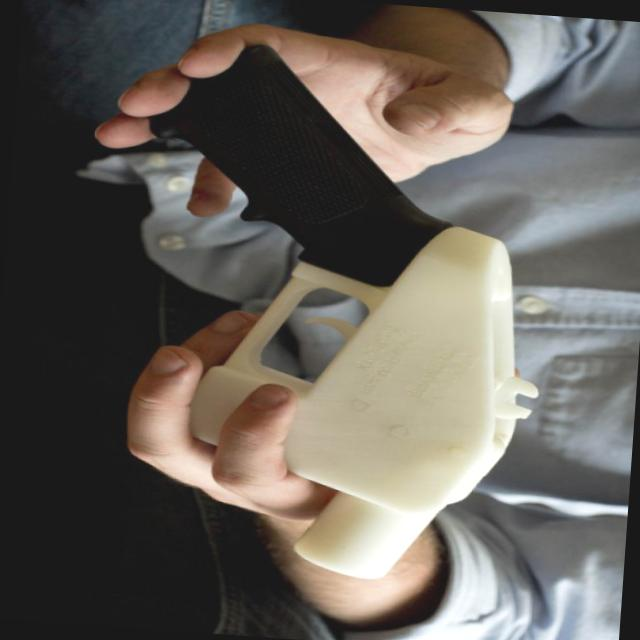handgun: (108, 34, 562, 590)
